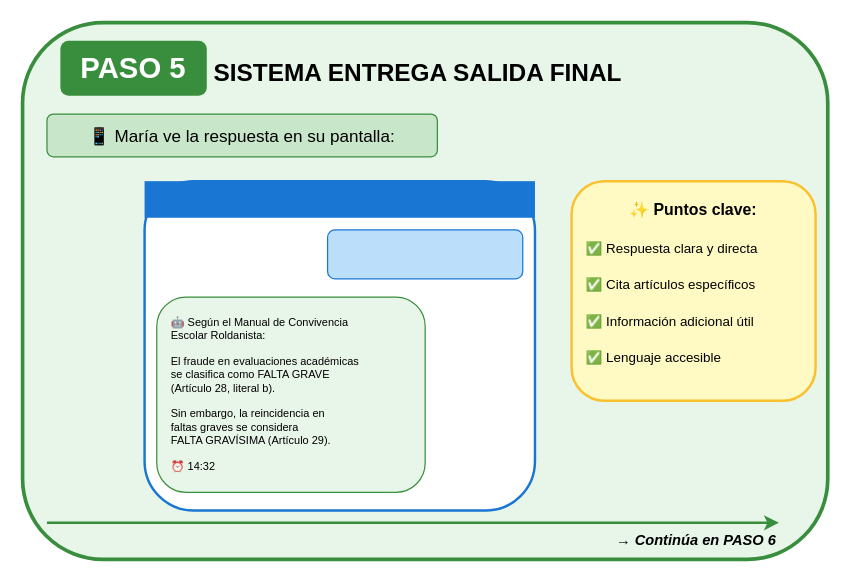
The diagram is 850 pixels wide and 582 high, and some of its shapes have lost their labels. Here are the shapes that lost their labels. From the top down, the centre of each, then its label:
the point at 339,199: 🤖 ARB-BOT 🟢 En línea
the point at 424,254: ¿El fraude académico es falta grave o gravísima?
